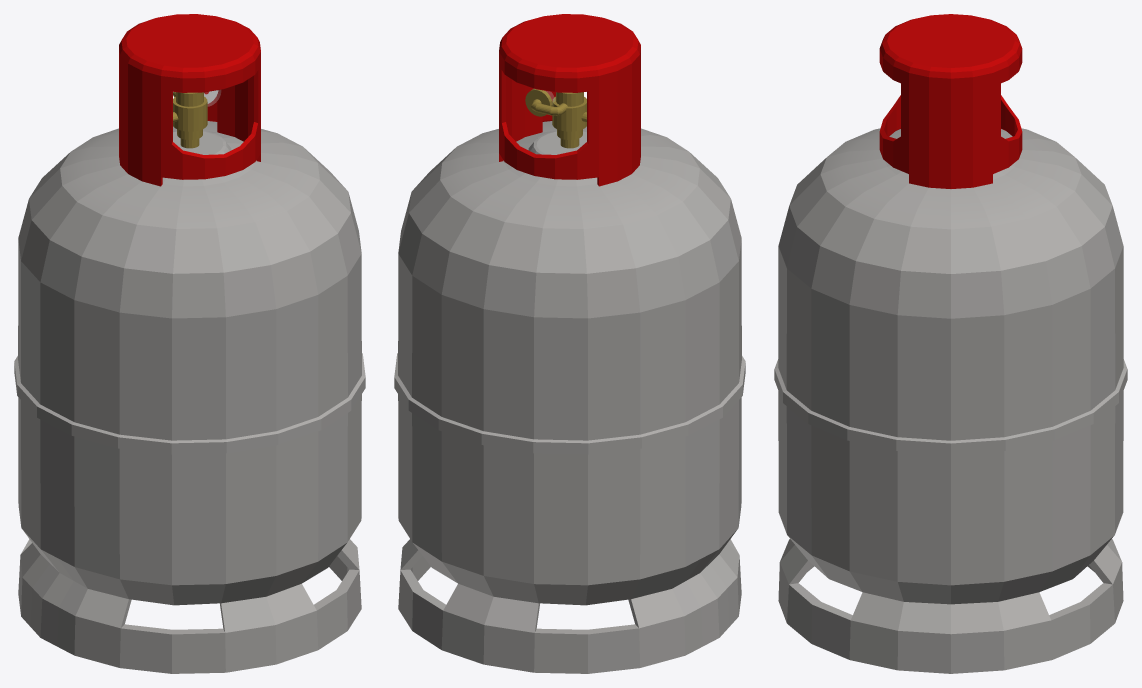
Rendered from propaneTank.fbx.
3 views of the same model, side by side, from view 1: azimuth 30°, elevation 25°; view 2: azimuth 150°, elevation 25°; view 3: azimuth 270°, elevation 25° (orthographic).
Visible parts, largest first — view 1: polySurface42; view 2: polySurface42; view 3: polySurface42.
Boxes of the visible parts, x1,y1,x2,y2 form: polySurface42: (14, 14, 365, 673); polySurface42: (394, 14, 745, 673); polySurface42: (774, 14, 1127, 673).
Size of the model in its own units: 2.19 by 3.84 by 2.19.
